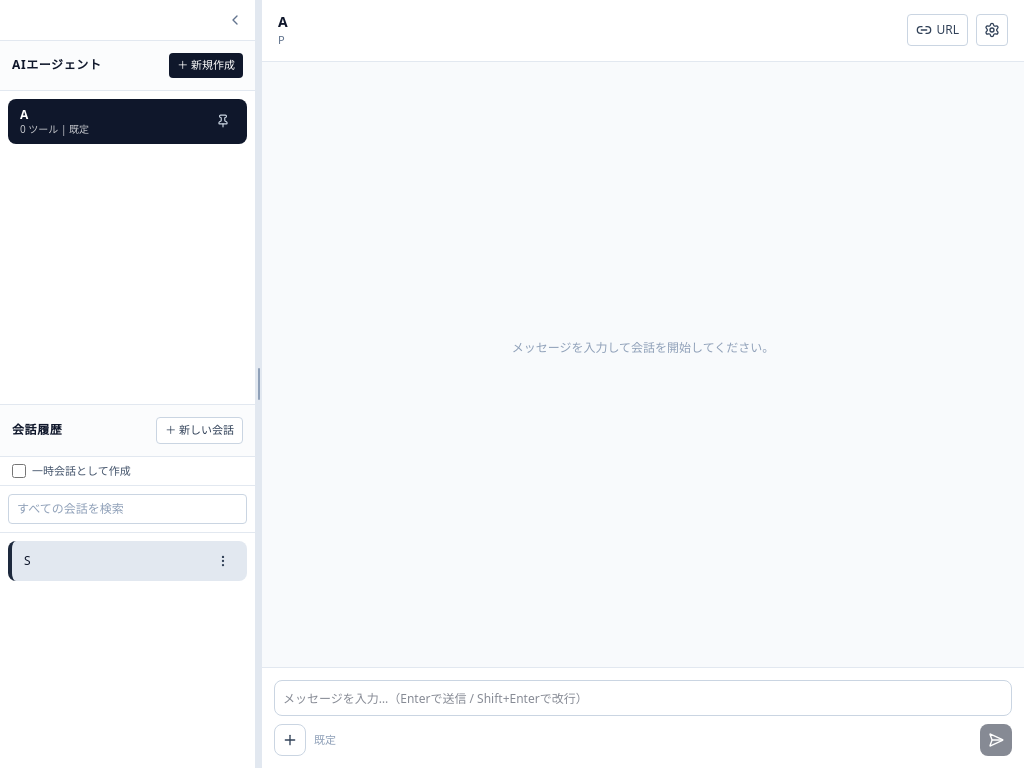
Test case: AgentsPage send queue › removes a queued message without sending it
(page scrolled)
Type "first" into the text box with placeholder "メッセージを入力…（Enterで送信 / Shift+Enterで改行）" at point(643, 698), box [274, 680, 1012, 716]
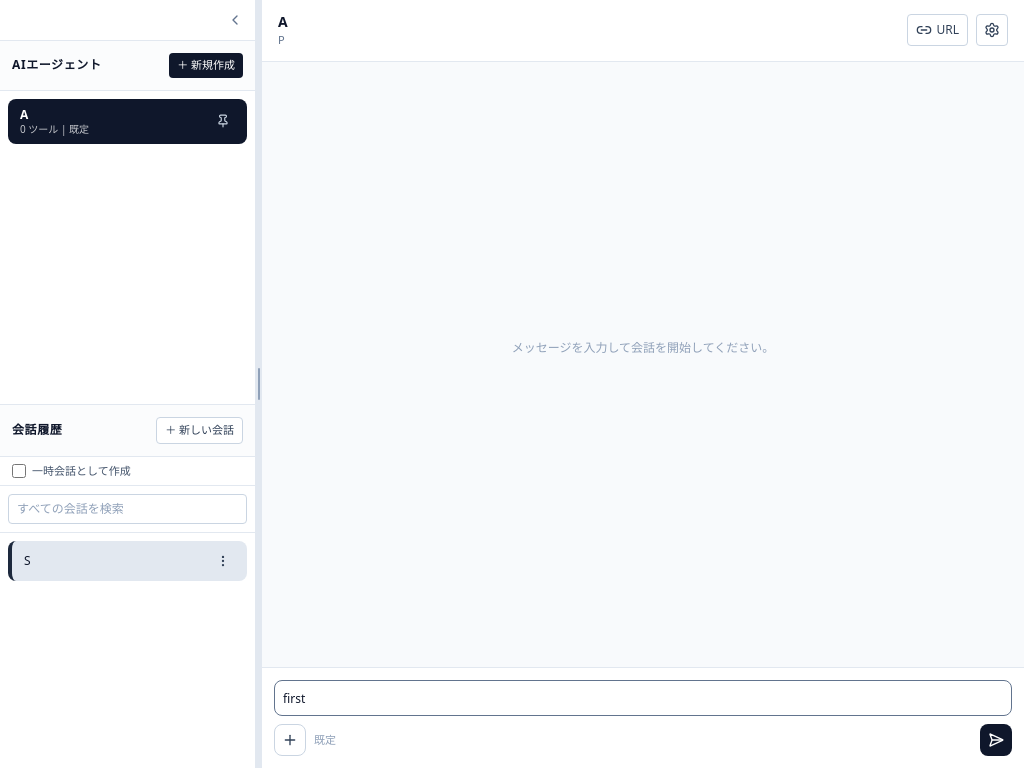
Click the button named "送信" at point(996, 740), box [980, 724, 1012, 756]
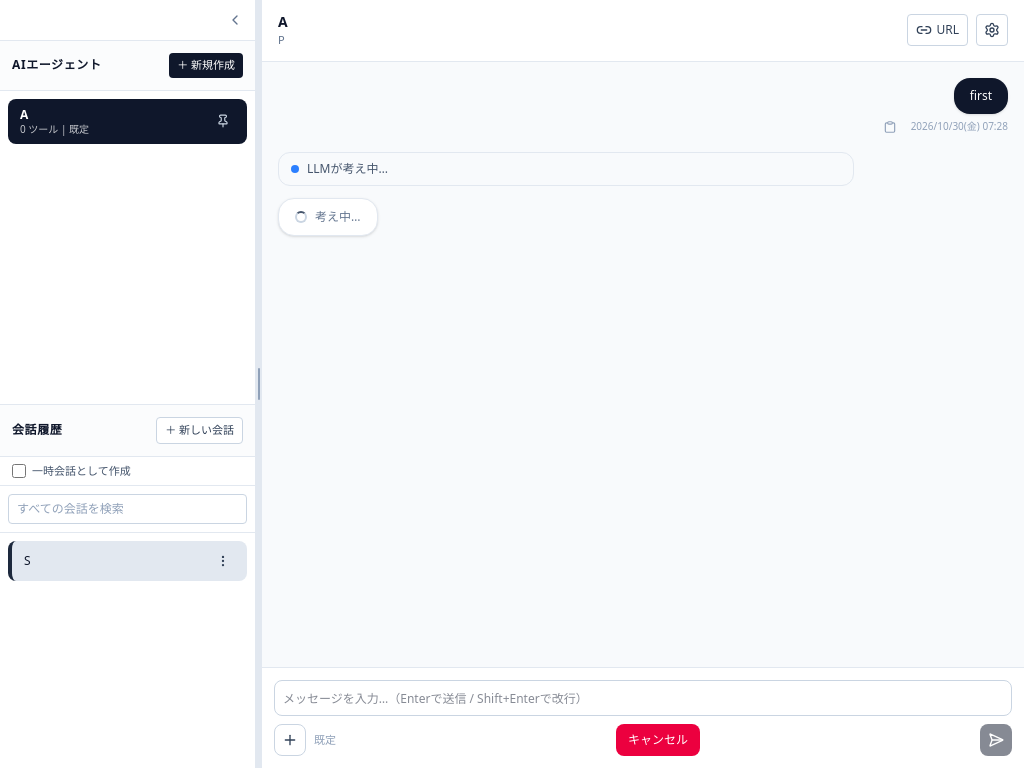
Type "drop me" into the text box with placeholder "メッセージを入力…（Enterで送信 / Shift+Enterで改行）" at point(643, 698), box [274, 680, 1012, 716]
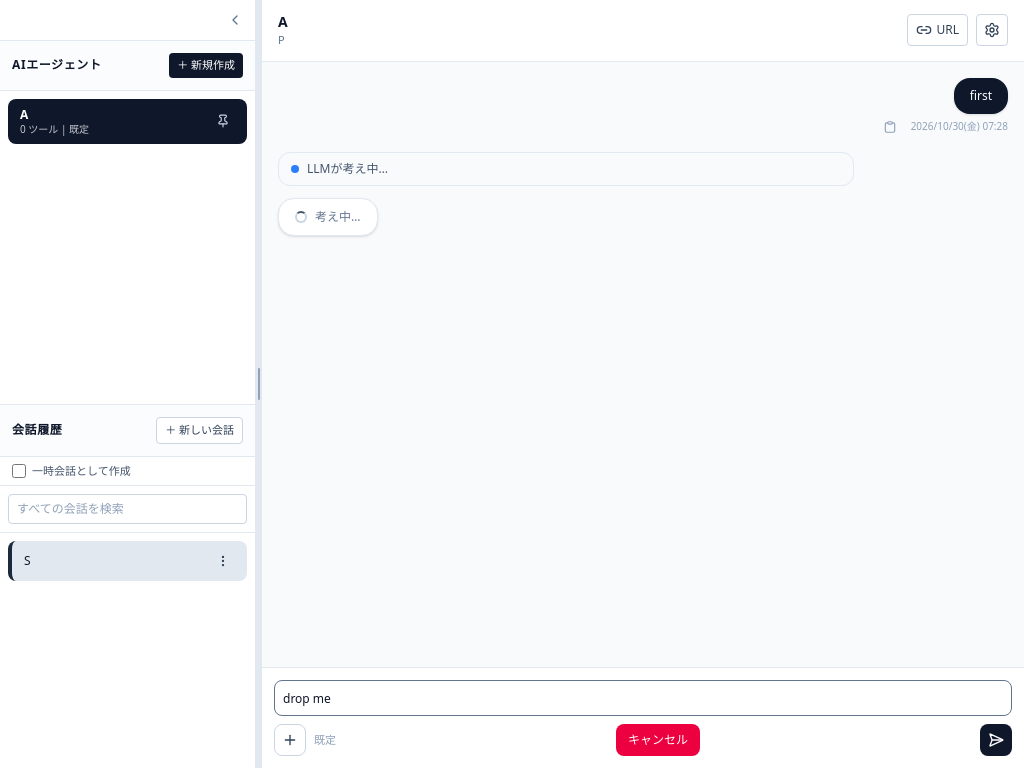
Click the button named "送信" at point(996, 740), box [980, 724, 1012, 756]
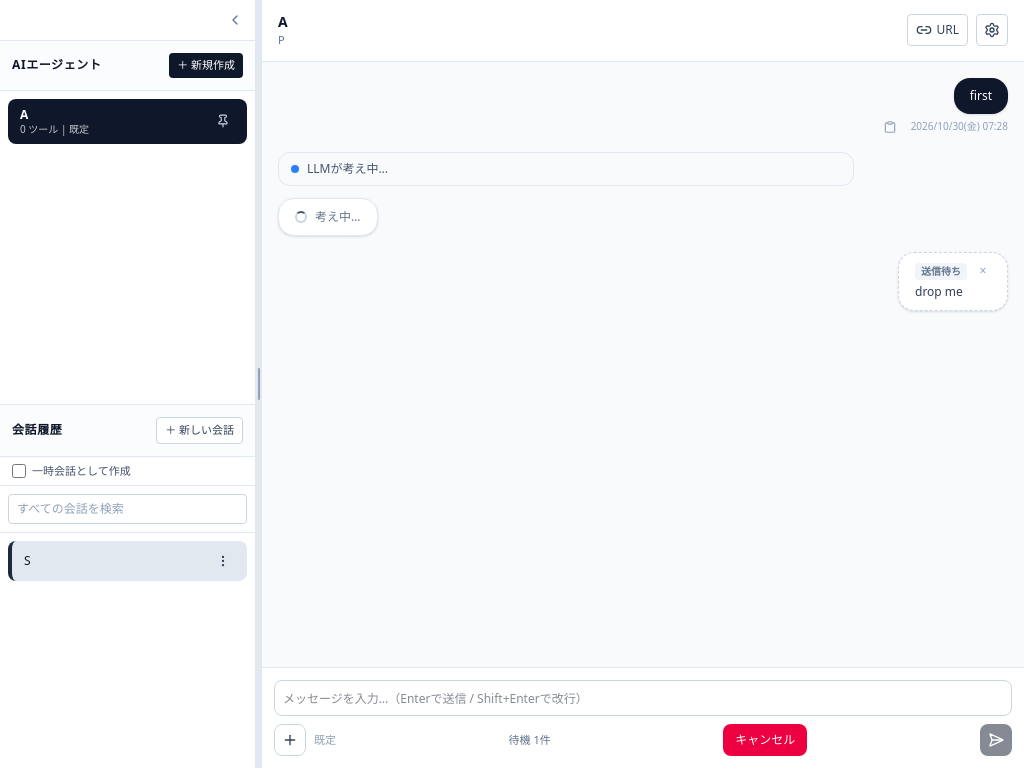
Check: the element with test id "agent-queued-messages" is shown, box [898, 252, 1008, 311]
Click the button named "送信待ちメッセージを削除" at point(983, 271), box [975, 263, 991, 279]
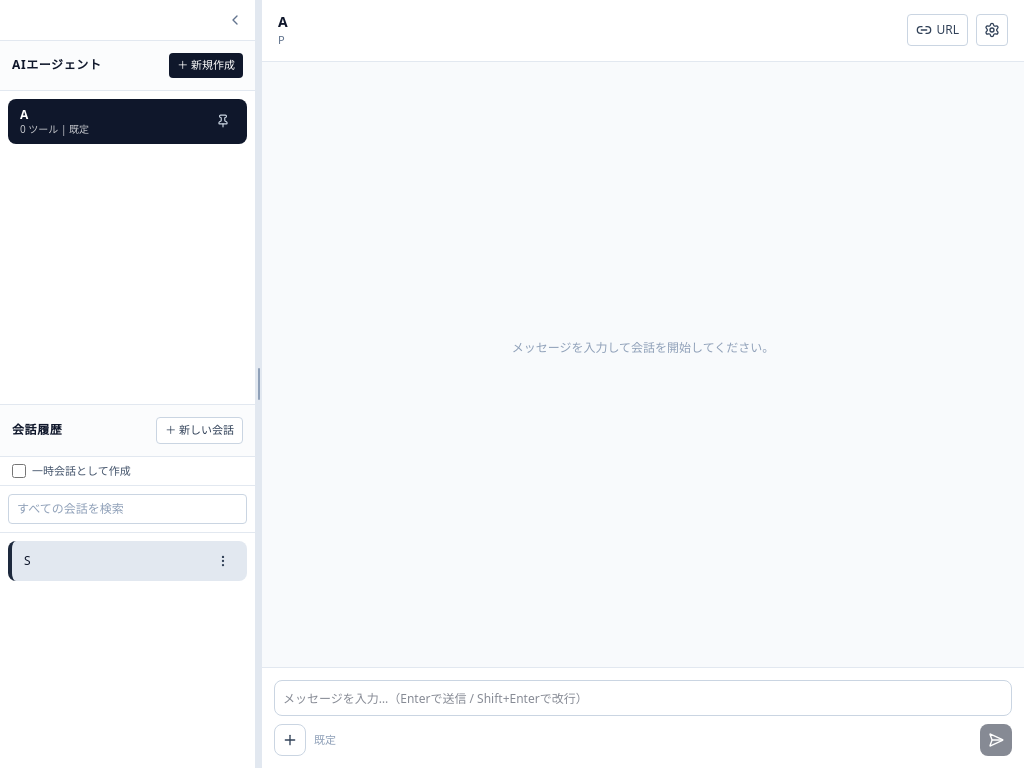
Check: the element with test id "agent-queued-messages" is gone
